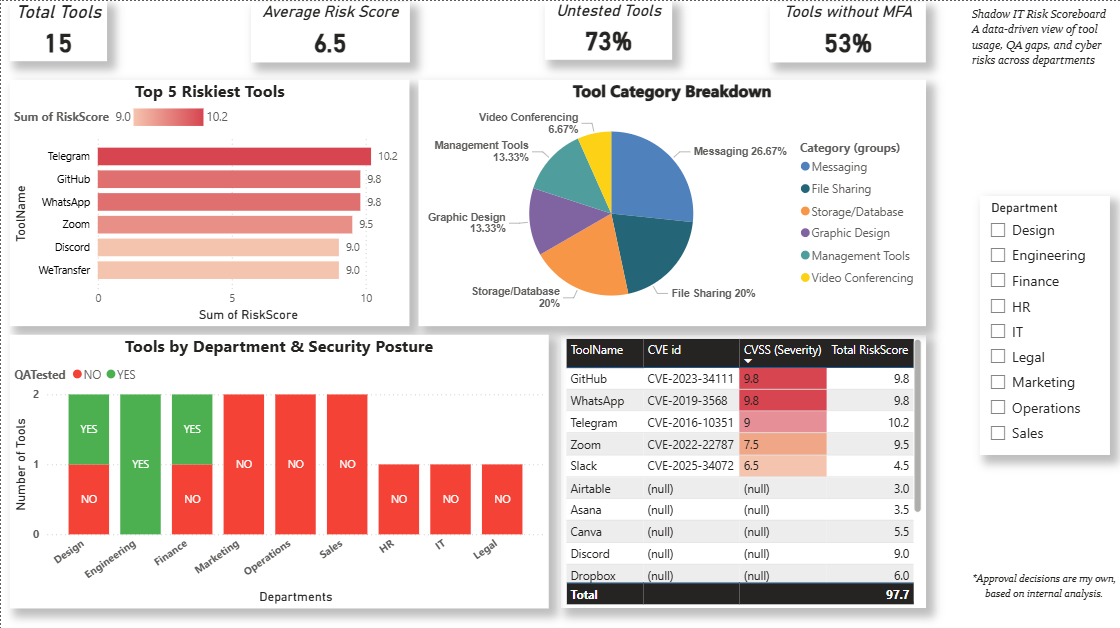

This screenshot's page, from the dashboard's own definition file:
{"tool":"powerbi","page":{"name":"Page 1","canvas":[1280,720],"ordinal":0},"visuals":[{"type":"card","title":"Total Tools","fields":{"Values":["Count(ShadowIT risk scoreboard.ToolName)"]},"box":[10,0,111.2,68.8],"z":0},{"type":"card","title":"Average Risk Score","fields":{"Values":["Avg(ShadowIT risk scoreboard.RiskScore)"]},"box":[285.7,1.4,181.4,68.6],"z":1000},{"type":"card","title":"Untested Tools","fields":{"Values":["ShadowIT risk scoreboard.Pct_Untested"]},"box":[621.4,0,145.7,67.1],"z":2000},{"type":"card","title":"Tools without MFA","fields":{"Values":["ShadowIT risk scoreboard.Pct_NoMFA"]},"box":[878.6,1.4,178.6,68.6],"z":3000},{"type":"clusteredBarChart","title":"Top 5 Riskiest Tools","fields":{"Category":["ShadowIT risk scoreboard.ToolName"],"Y":["Sum(ShadowIT risk scoreboard.RiskScore)"]},"box":[10,90,457.1,281.4],"z":4000},{"type":"pieChart","title":"Tool Category Breakdown","fields":{"Y":["CountNonNull(ShadowIT risk scoreboard.ToolName)"],"Category":["ShadowIT risk scoreboard.Category (groups)"]},"box":[477.1,90,580,281.4],"z":5000},{"type":"columnChart","title":"Tools by Department & Security Posture","fields":{"Category":["ShadowIT risk scoreboard.Department"],"Y":["CountNonNull(ShadowIT risk scoreboard.ToolName)"],"Series":["ShadowIT risk scoreboard.QATested"]},"box":[10,381.4,615.7,312.9],"z":6000},{"type":"tableEx","fields":{"Values":["ShadowIT risk scoreboard.ToolName","ShadowIT risk scoreboard.CVE_ID","ShadowIT risk scoreboard.CVSS_Score","Sum(ShadowIT risk scoreboard.RiskScore)"]},"box":[640,381.4,417.1,312.9],"z":7000},{"type":"slicer","fields":{"Values":["ShadowIT risk scoreboard.Department"]},"box":[1118.6,222.9,148.6,295.7],"z":8000},{"type":"textbox","box":[1104.3,0,175.7,90],"z":9000},{"type":"textbox","box":[1104.3,644.3,175.7,50],"z":10000}]}

Visuals, with their boxes in screenshot pixels (x1, y1, x2, y2), scaled from the page's 1280x720 canvas onto the 1120x628 screenshot:
"Total Tools" card: left=9, top=0, right=106, bottom=60
"Average Risk Score" card: left=250, top=1, right=409, bottom=61
"Untested Tools" card: left=544, top=0, right=671, bottom=59
"Tools without MFA" card: left=769, top=1, right=925, bottom=61
"Top 5 Riskiest Tools" clusteredBarChart: left=9, top=78, right=409, bottom=324
"Tool Category Breakdown" pieChart: left=417, top=78, right=925, bottom=324
"Tools by Department & Security Posture" columnChart: left=9, top=333, right=547, bottom=606
tableEx - ShadowIT risk scoreboard.ToolName x ShadowIT risk scoreboard.CVE_ID: left=560, top=333, right=925, bottom=606
slicer - ShadowIT risk scoreboard.Department: left=979, top=194, right=1109, bottom=452
textbox: left=966, top=0, right=1119, bottom=78
textbox: left=966, top=562, right=1119, bottom=606
